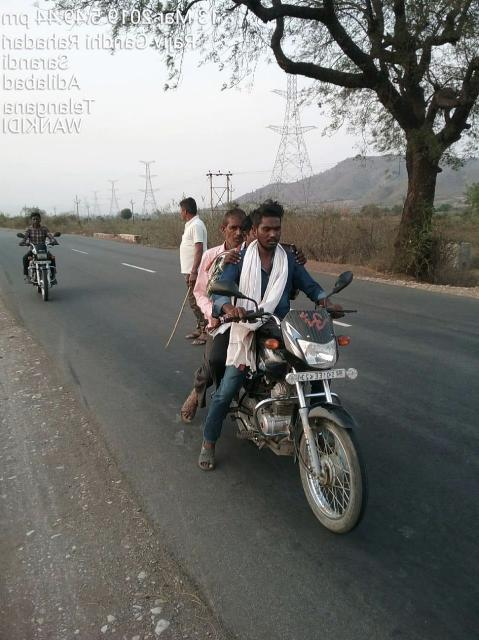motor: (211, 269, 372, 537), (17, 232, 64, 305)
non-helm: (252, 199, 287, 252), (220, 208, 248, 249), (31, 213, 42, 228)
